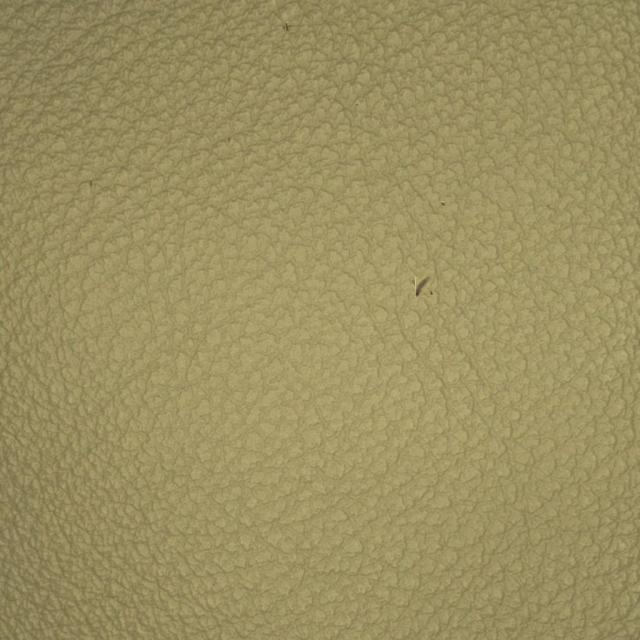Scratch: (313, 223, 525, 354)
